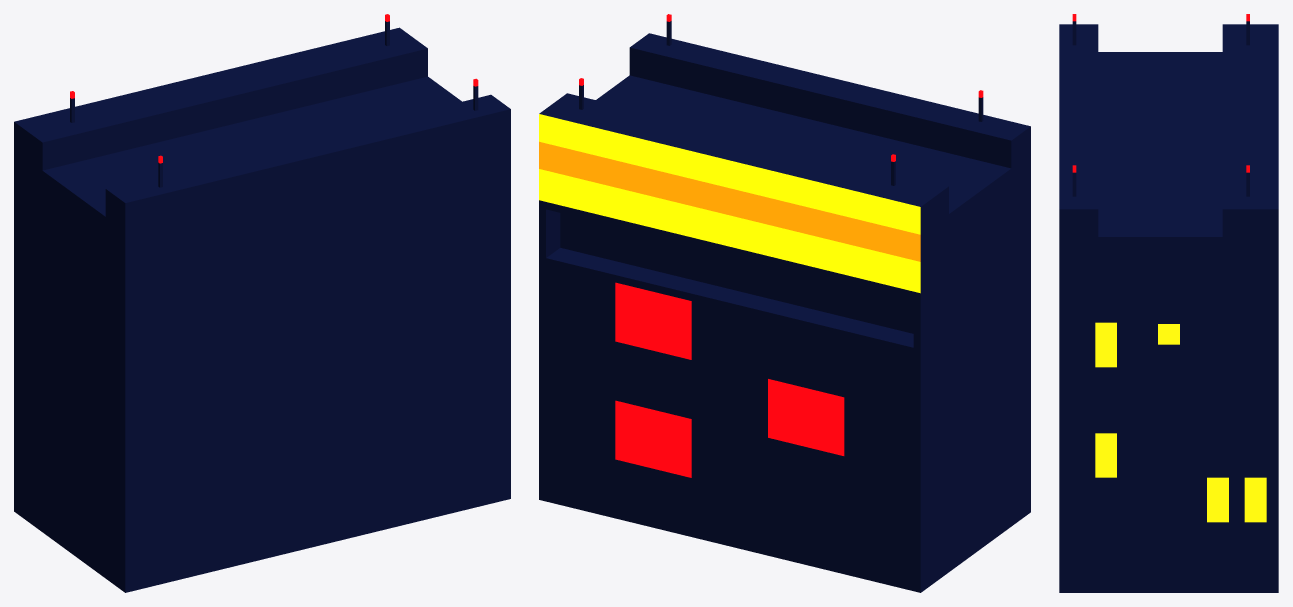
File: house8.glb
3 renders of one model, left to right at view 1: azimuth 30°, elevation 25°; view 2: azimuth 150°, elevation 25°; view 3: azimuth 270°, elevation 25°, orthographic.
Parts seen in each view (by area): view 1: 立方体; view 2: 立方体; view 3: 立方体, 平面.004, 平面.001, 平面.003, 平面.002, 平面.
Part boxes in pixels (x1=…): 立方体: x1=14, y1=27, x2=510, y2=592; 立方体: x1=539, y1=33, x2=1030, y2=592; 立方体: x1=1059, y1=24, x2=1278, y2=592; 平面.004: x1=1244, y1=477, x2=1266, y2=522; 平面.001: x1=1095, y1=322, x2=1116, y2=367; 平面.003: x1=1207, y1=477, x2=1228, y2=522; 平面.002: x1=1095, y1=433, x2=1116, y2=477; 平面: x1=1158, y1=324, x2=1179, y2=344.
Size of the model in its own units: 40.1 by 41.68 by 20.
